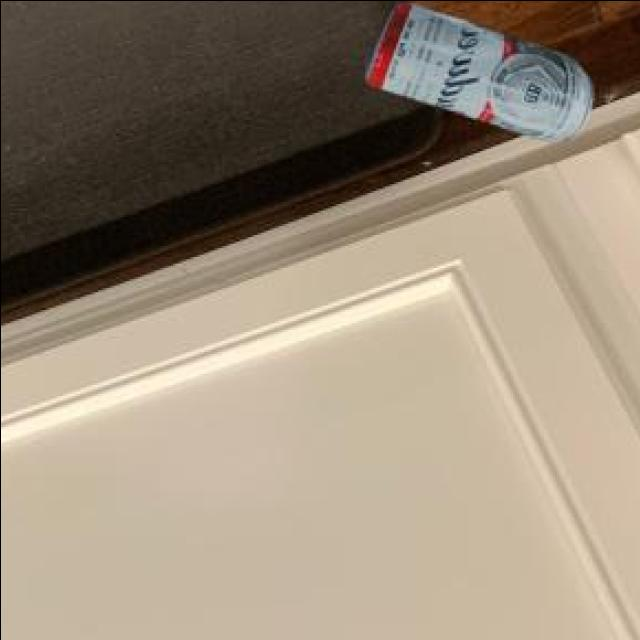logam: (363, 1, 588, 145)
